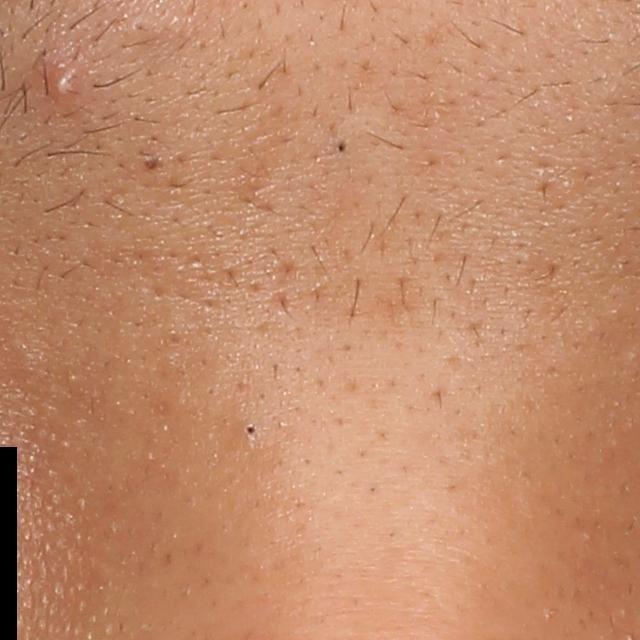comedo: (241, 420, 260, 442)
pustule: (54, 64, 78, 102)
